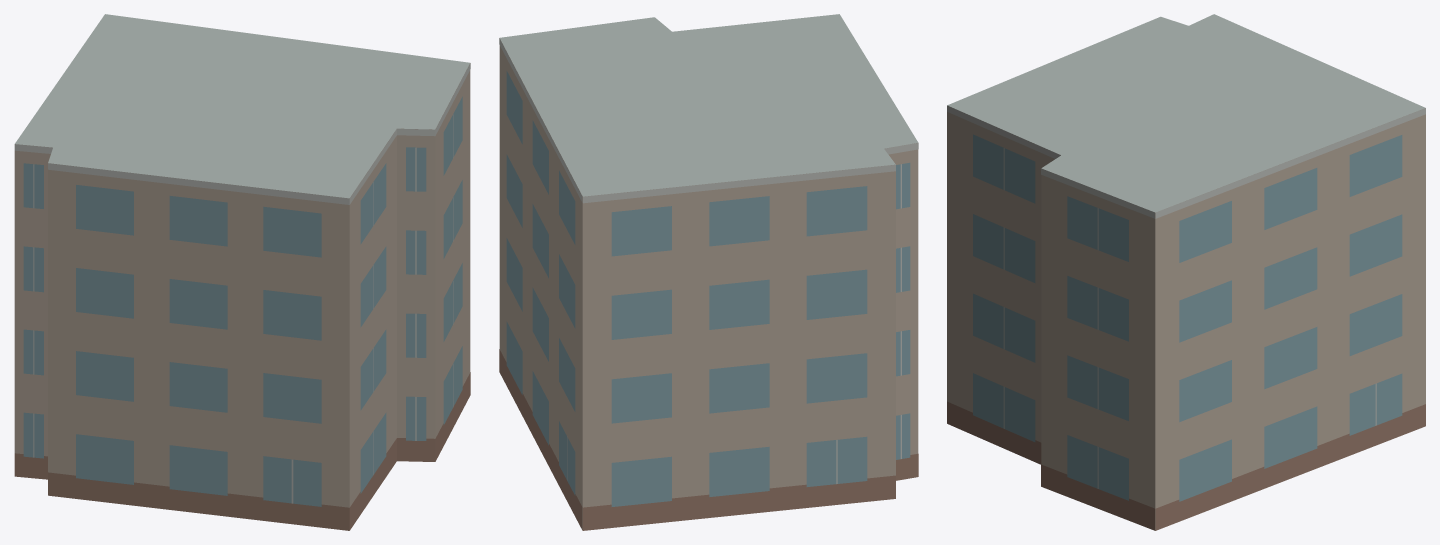
Rendered from survey-upis-32727515.glb.
3 views of the same model, side by side, from view 1: azimuth 30°, elevation 25°; view 2: azimuth 150°, elevation 25°; view 3: azimuth 270°, elevation 25° (orthographic). The views are drawn at different scales.
Parts seen in each view (by area): view 1: survey-upis-32727515.tmp; view 2: survey-upis-32727515.tmp; view 3: survey-upis-32727515.tmp.
Boxes of the visible parts, x1,y1,x2,y2 form: survey-upis-32727515.tmp: [14, 14, 470, 530]; survey-upis-32727515.tmp: [499, 14, 918, 530]; survey-upis-32727515.tmp: [947, 14, 1425, 530].
Bounding box in the file's own units: 16.33 × 12.2 × 16.64.
